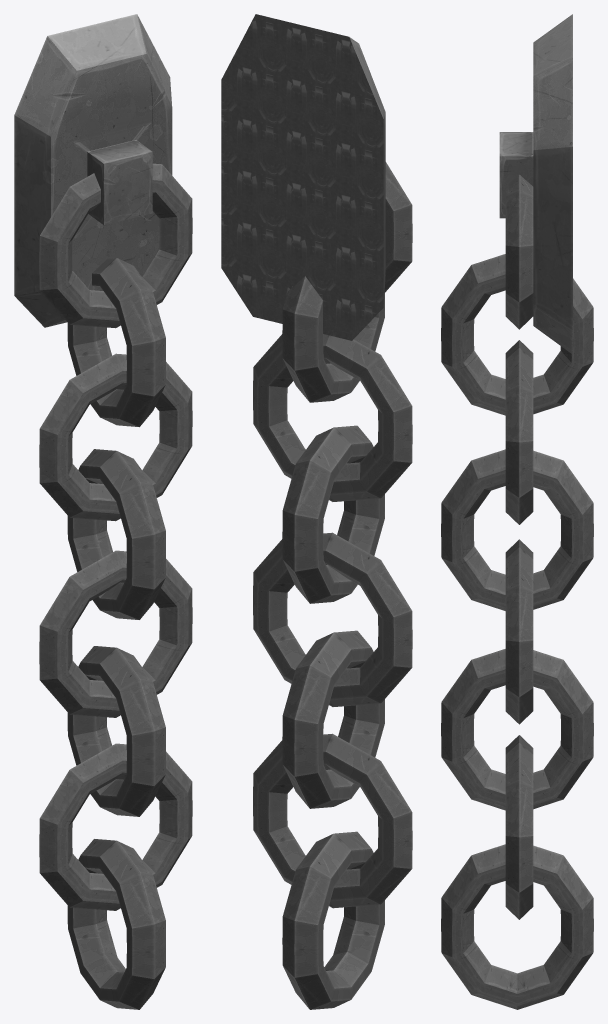
Rendered from AD_Chain_A_01.fbx.
3 views of the same model, side by side, from view 1: azimuth 30°, elevation 25°; view 2: azimuth 150°, elevation 25°; view 3: azimuth 270°, elevation 25° (orthographic). The views are drawn at different scales.
Parts seen in each view (by area): view 1: AD_Chain_A_01; view 2: AD_Chain_A_01; view 3: AD_Chain_A_01.
Boxes of the visible parts, box(x1,y1,x2,y2) form: AD_Chain_A_01: box(14, 14, 192, 1009); AD_Chain_A_01: box(221, 14, 412, 1009); AD_Chain_A_01: box(441, 14, 593, 1009).
Bounding box in the file's own units: 165 × 966 × 137.
1 material, 1 textured.
